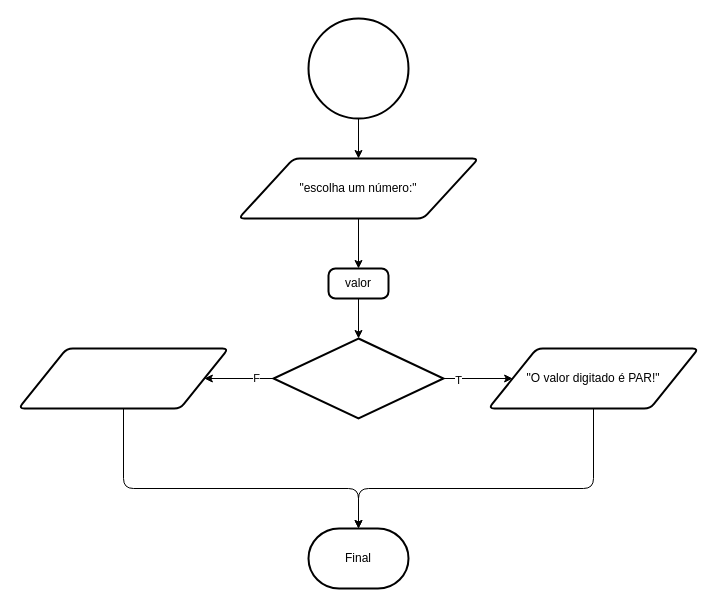
This 716x606 diagram has some shape labels left out. The shapes that lost their labels are listed below. From the top down, each one's box as (x1, y1, x2, y2) in pixels, then its label:
(17, 347, 229, 409): "O valor digitado é ÍMPAR!"
(272, 337, 444, 419): valor % 2 == 0 ?
